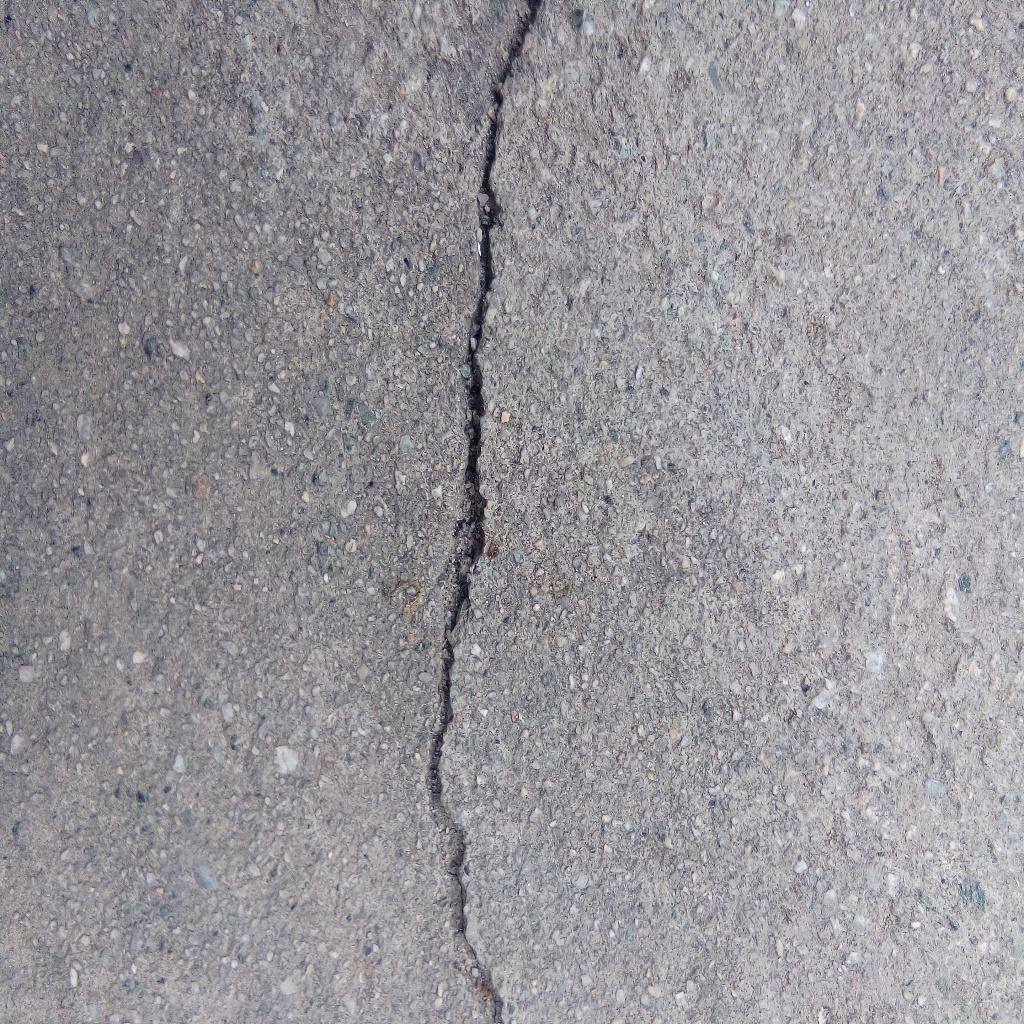Crack: (427, 1, 543, 1024)
